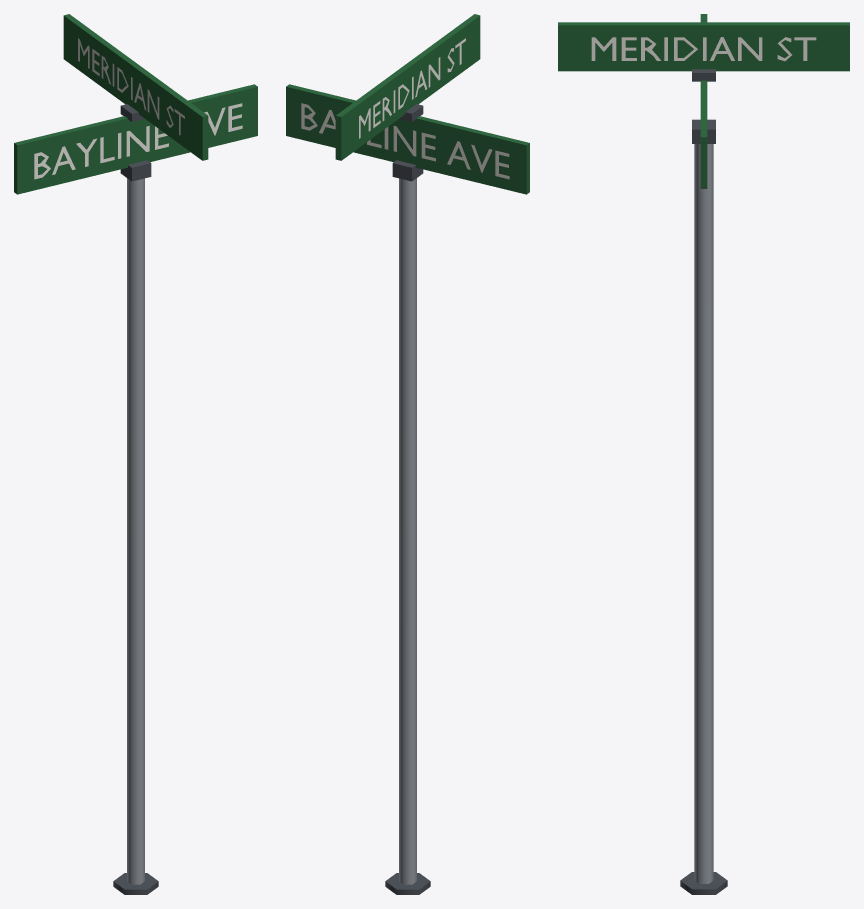
File: sign_street.glb
The picture shows the model from 3 angles, left to right: view 1: azimuth 30°, elevation 25°; view 2: azimuth 150°, elevation 25°; view 3: azimuth 270°, elevation 25°; orthographic projection. The views are drawn at different scales.
Parts seen in each view (by area): view 1: sign_street__mesh; view 2: sign_street__mesh; view 3: sign_street__mesh.
Boxes of the visible parts, x1,y1,x2,y2 form: sign_street__mesh: [14, 14, 257, 894]; sign_street__mesh: [286, 14, 529, 894]; sign_street__mesh: [558, 14, 849, 894].
Bounding box in the file's own units: 0.92 × 3 × 0.92.
Materials: 1 (1 with a texture image).
